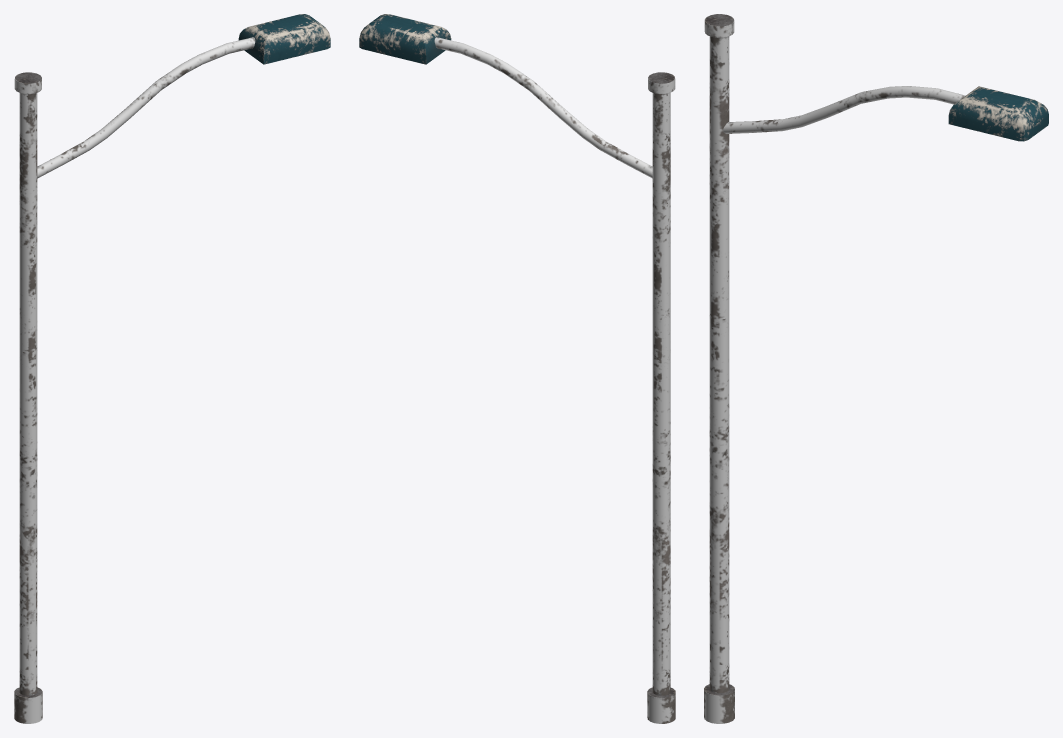
The model's file is PosteB.fbx.
The picture shows the model from 3 angles, left to right: view 1: azimuth 30°, elevation 25°; view 2: azimuth 150°, elevation 25°; view 3: azimuth 330°, elevation 25°; orthographic projection. The views are drawn at different scales.
Parts seen in each view (by area): view 1: PosteB; view 2: PosteB; view 3: PosteB.
Part boxes in pixels (box(x1,y1,x2,y2)): PosteB: box(14, 14, 330, 723); PosteB: box(359, 14, 675, 723); PosteB: box(704, 14, 1048, 723).
Size of the model in its own units: 217 by 435 by 30.82.
1 material, 1 textured.
